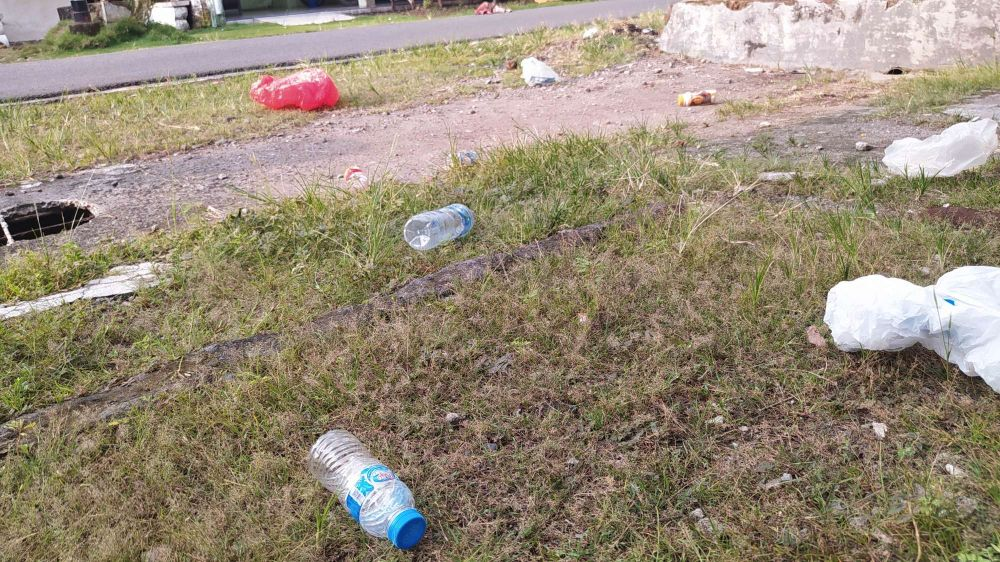botol: (291, 429, 451, 553), (398, 191, 481, 247), (672, 79, 725, 109), (330, 152, 369, 191)
plastik: (829, 216, 995, 393), (885, 110, 995, 186), (250, 65, 340, 112)
